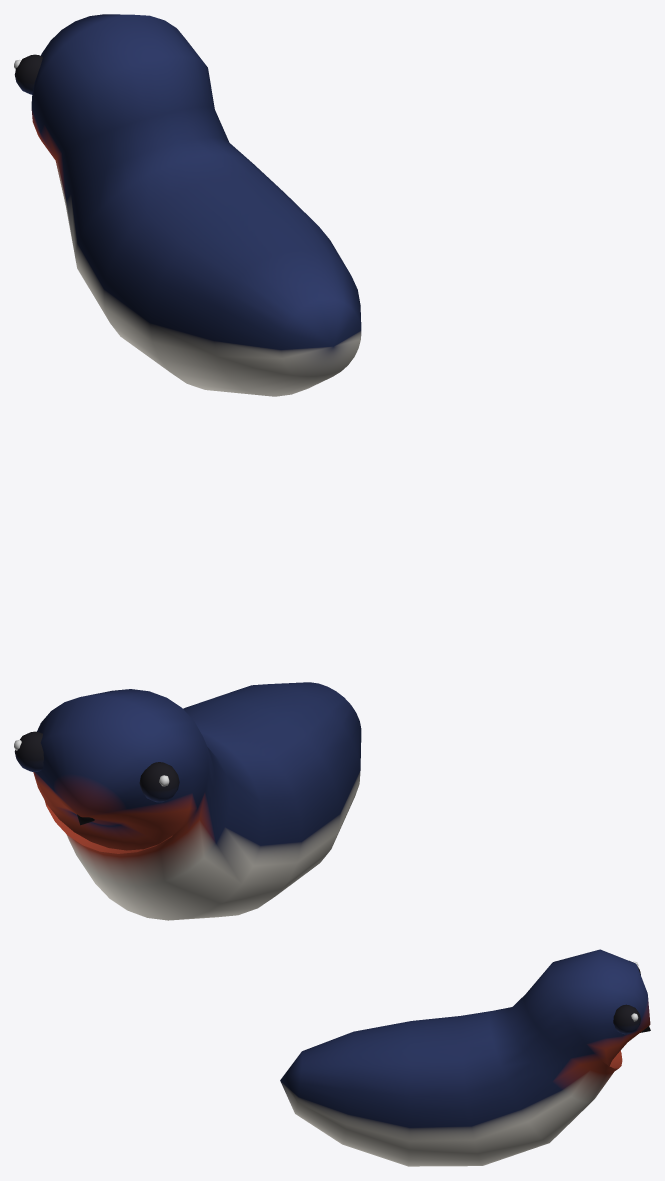
File: Tsubame_Body.fbx
3 renders of one model, top to bottom at view 1: azimuth 30°, elevation 25°; view 2: azimuth 150°, elevation 25°; view 3: azimuth 270°, elevation 25°, orthographic. The views are drawn at different scales.
Parts seen in each view (by area): view 1: Tsubame_Body; view 2: Tsubame_Body; view 3: Tsubame_Body.
Part boxes in pixels (<box>): Tsubame_Body: <box>14,14,361,396</box>; Tsubame_Body: <box>14,682,361,920</box>; Tsubame_Body: <box>280,949,650,1166</box>.
Bounding box in the file's own units: 2.59 × 2.52 × 7.21.
